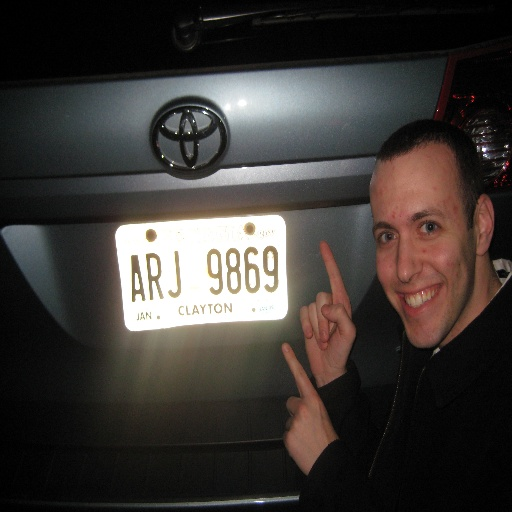hand: (279, 342, 338, 476), (298, 263, 360, 386)
